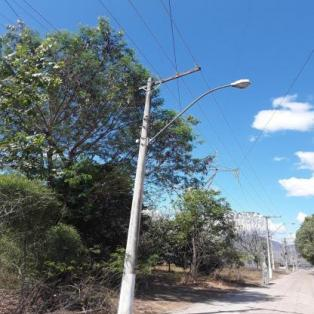Poste: (110, 75, 159, 314)
